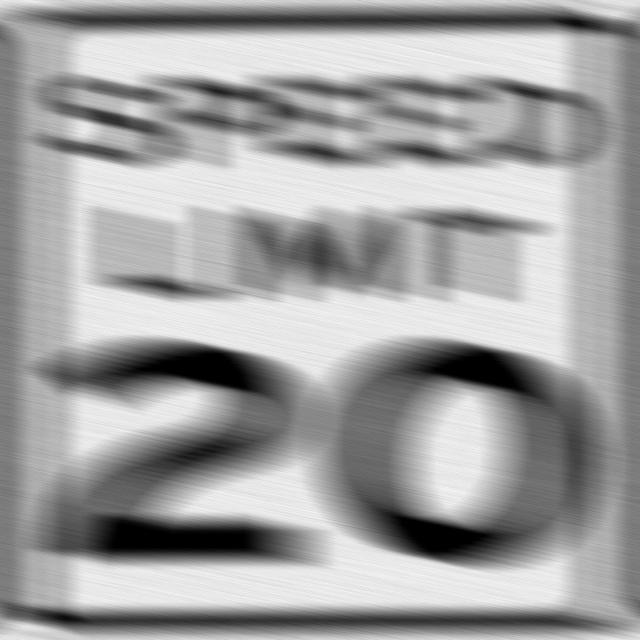speedLimit20: (0, 8, 631, 631)
